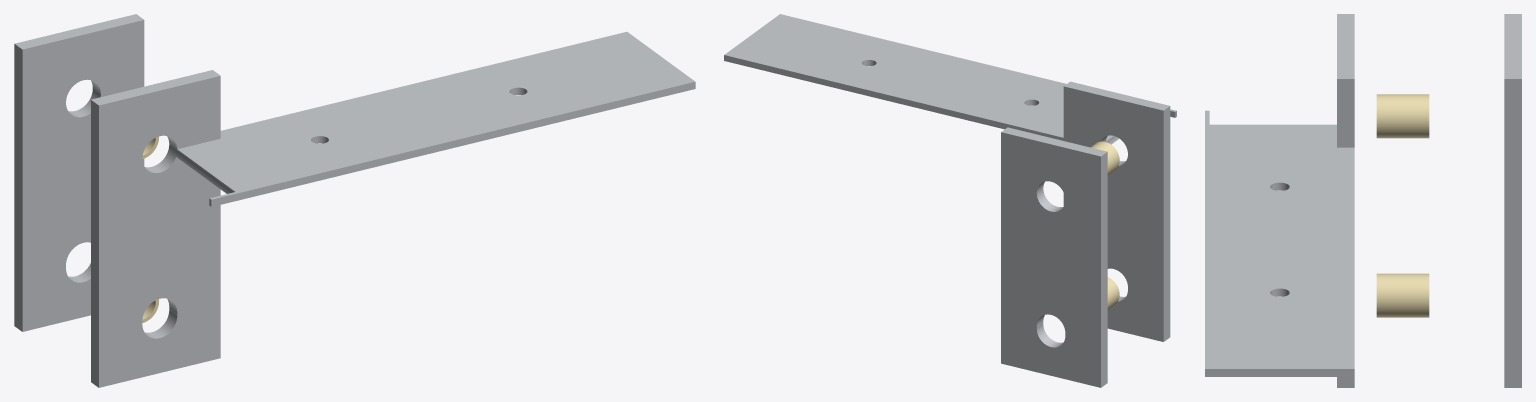
File: car_B1_1.glb
3 views of the same model, side by side, from view 1: azimuth 30°, elevation 25°; view 2: azimuth 150°, elevation 25°; view 3: azimuth 270°, elevation 25° (orthographic). The views are drawn at different scales.
Parts seen in each view (by area): view 1: =>[0:1:1:5], =>[0:1:1:6]; view 2: =>[0:1:1:5], =>[0:1:1:6], =>[0:1:1:8]; view 3: =>[0:1:1:5], =>[0:1:1:6], =>[0:1:1:8], =>[0:1:1:10].
Boxes of the visible parts, x1,y1,x2,y2 form: =>[0:1:1:5]: (91,32,695,387); =>[0:1:1:6]: (14,14,144,331); =>[0:1:1:5]: (724,14,1176,341); =>[0:1:1:6]: (1001,127,1107,387); =>[0:1:1:8]: (1090,141,1119,174); =>[0:1:1:5]: (1205,14,1354,387); =>[0:1:1:6]: (1504,14,1521,387); =>[0:1:1:8]: (1376,94,1429,138); =>[0:1:1:10]: (1376,273,1429,317).
Size of the model in its own units: 0.308 by 0.155 by 0.144.
